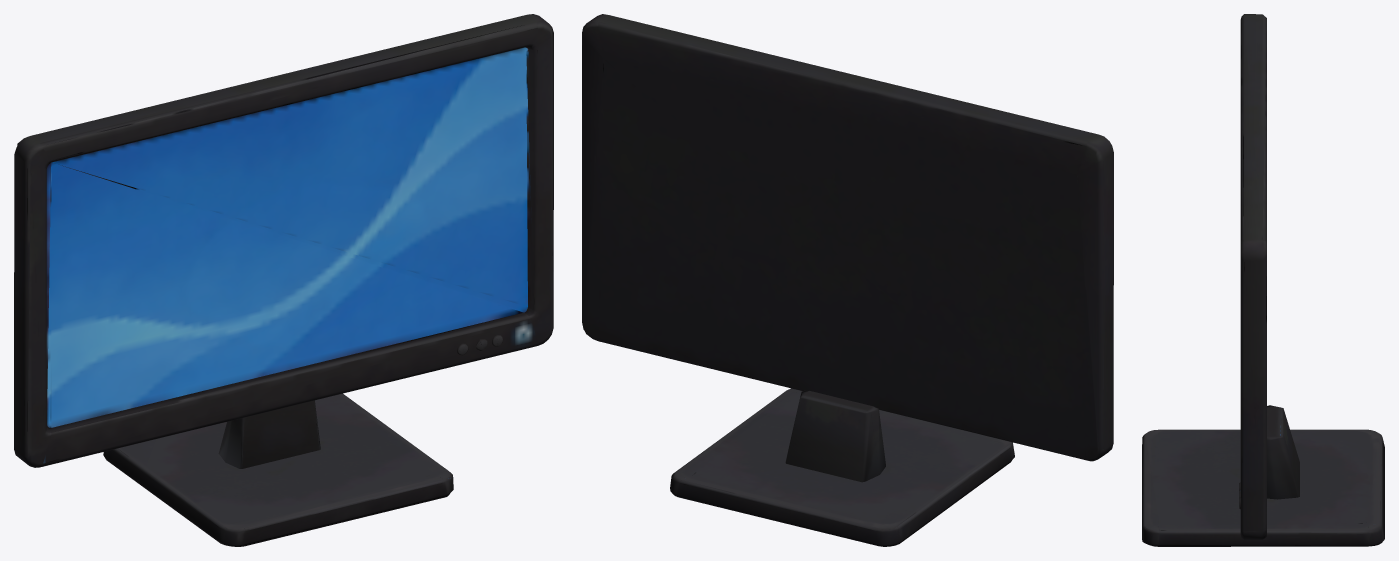
The model's file is Meshy_AI_Blue_Wave_Monitor_20261109_texture.fbx.
The picture shows the model from 3 angles, left to right: view 1: azimuth 30°, elevation 25°; view 2: azimuth 150°, elevation 25°; view 3: azimuth 270°, elevation 25°; orthographic projection. The views are drawn at different scales.
Visible parts, largest first — view 1: geometry_0; view 2: geometry_0; view 3: geometry_0.
Part boxes in pixels (box(x1,y1,x2,y2)): geometry_0: box(14, 14, 553, 546); geometry_0: box(582, 14, 1113, 546); geometry_0: box(1142, 14, 1384, 546).
Size of the model in its own units: 95.75 by 68.95 by 41.26.
1 material, 1 textured.
